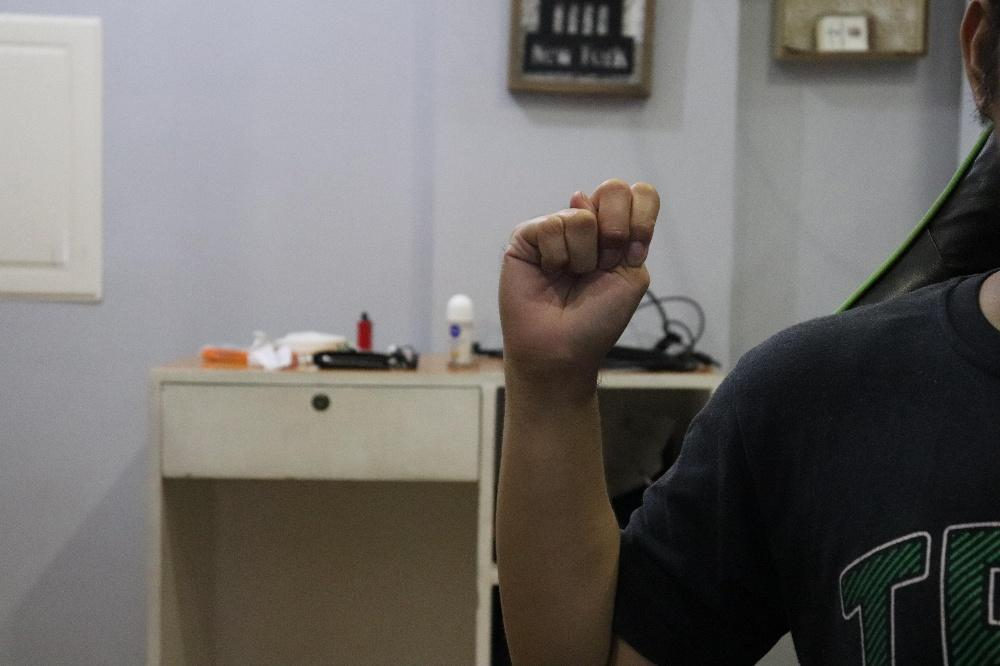n: (497, 177, 660, 381)
